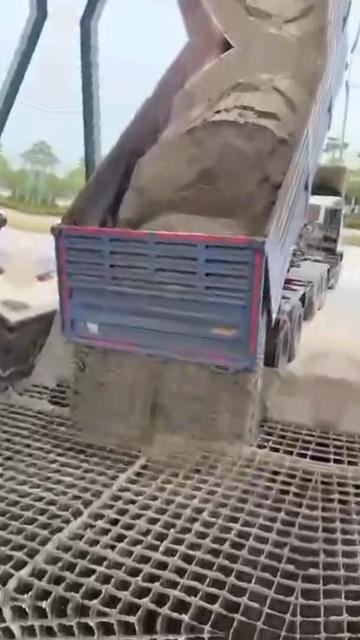sand: (30, 315, 328, 460), (119, 48, 325, 234), (8, 457, 145, 590), (0, 389, 59, 413)
